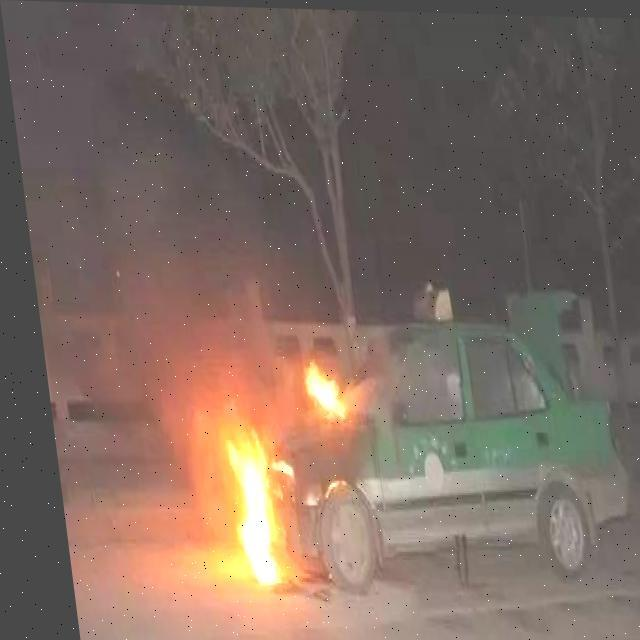Fire: (206, 420, 294, 587), (290, 353, 340, 428)
